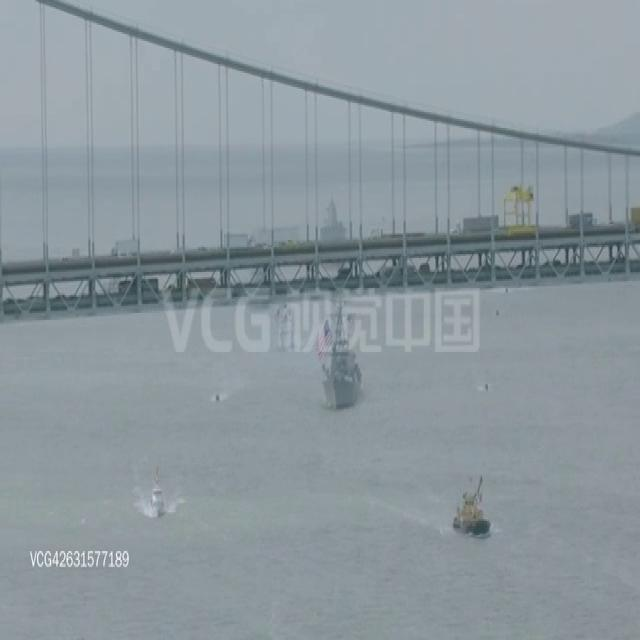houseboat: (450, 465, 492, 538), (147, 468, 165, 519)
navalvessels: (316, 294, 365, 415)
